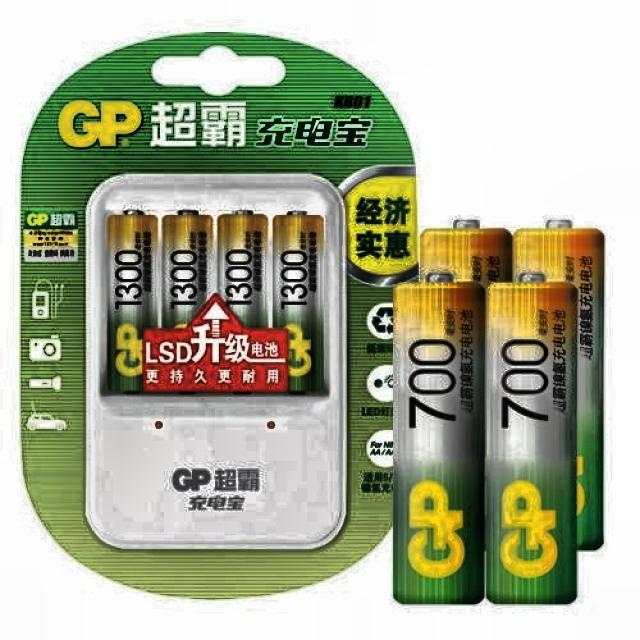Non-Valuable Waste - Batteries: (486, 229, 578, 604), (512, 219, 605, 550), (394, 282, 484, 604), (108, 210, 158, 392), (274, 211, 324, 392), (421, 219, 511, 286), (162, 210, 212, 327), (219, 211, 268, 327)
